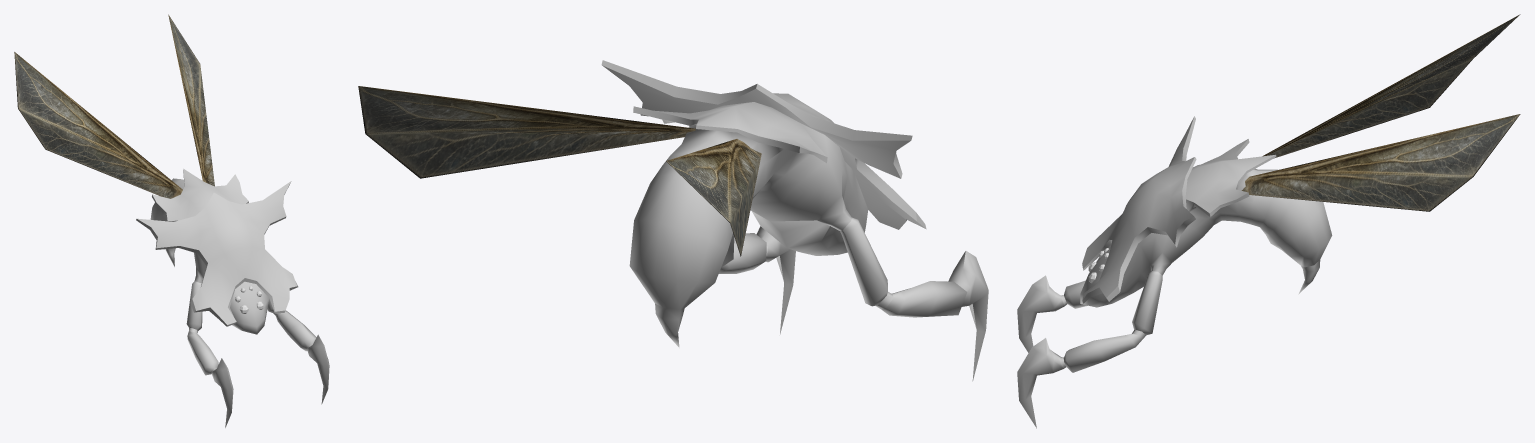
File: wasp.fbx
3 views of the same model, side by side, from view 1: azimuth 30°, elevation 25°; view 2: azimuth 150°, elevation 25°; view 3: azimuth 270°, elevation 25° (orthographic). The views are drawn at different scales.
Visible parts, largest first — view 1: Body, Wing.R, Wing.L; view 2: Body, Wing.L, Wing.R; view 3: Body, Wing.L, Wing.R.
Part boxes in pixels (x1,y1,x2,y2): Body: (136,168,329,427); Wing.R: (14,52,182,198); Wing.L: (168,14,214,186); Body: (601,60,988,381); Wing.L: (358,86,695,178); Wing.R: (666,139,761,256); Body: (1017,116,1332,428); Wing.L: (1241,114,1520,211); Wing.R: (1262,14,1520,158).
Size of the model in its own units: 249 by 328 by 448.
